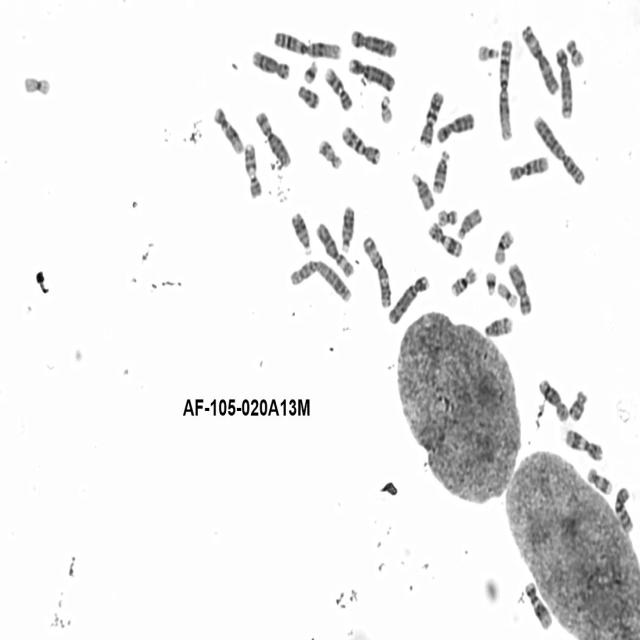A1: (272, 29, 342, 61), (498, 36, 513, 142)
A2: (532, 114, 587, 187), (289, 258, 354, 306)
A3: (522, 23, 561, 97), (362, 234, 392, 312)
B4: (386, 274, 429, 327), (348, 56, 396, 94)
B5: (349, 28, 398, 58), (555, 46, 574, 121)
C10: (507, 156, 549, 183), (613, 487, 634, 534)
C11: (426, 222, 464, 260), (564, 428, 604, 462)
C12: (212, 105, 245, 155), (523, 578, 553, 631)
C6: (316, 222, 356, 278), (254, 110, 292, 168)
C7: (341, 124, 382, 168), (418, 90, 446, 147)
C8: (538, 378, 569, 422), (250, 49, 290, 81)
C9: (324, 65, 353, 113), (242, 141, 263, 200)
D13: (288, 209, 314, 258), (340, 205, 358, 252)
D14: (432, 149, 451, 195), (483, 315, 514, 337)
D15: (410, 172, 436, 213), (456, 207, 483, 240)
E16: (450, 266, 480, 298), (493, 229, 515, 265)
E17: (318, 137, 343, 171), (587, 466, 613, 496)
E18: (568, 388, 588, 422), (296, 82, 320, 110)
F19: (23, 73, 52, 98), (496, 280, 519, 308)
F20: (566, 37, 585, 68), (436, 208, 459, 227)
G21: (302, 59, 320, 85), (483, 271, 497, 297)
G22: (475, 42, 499, 62), (379, 96, 394, 124)
X: (507, 261, 534, 318), (435, 111, 475, 144)
